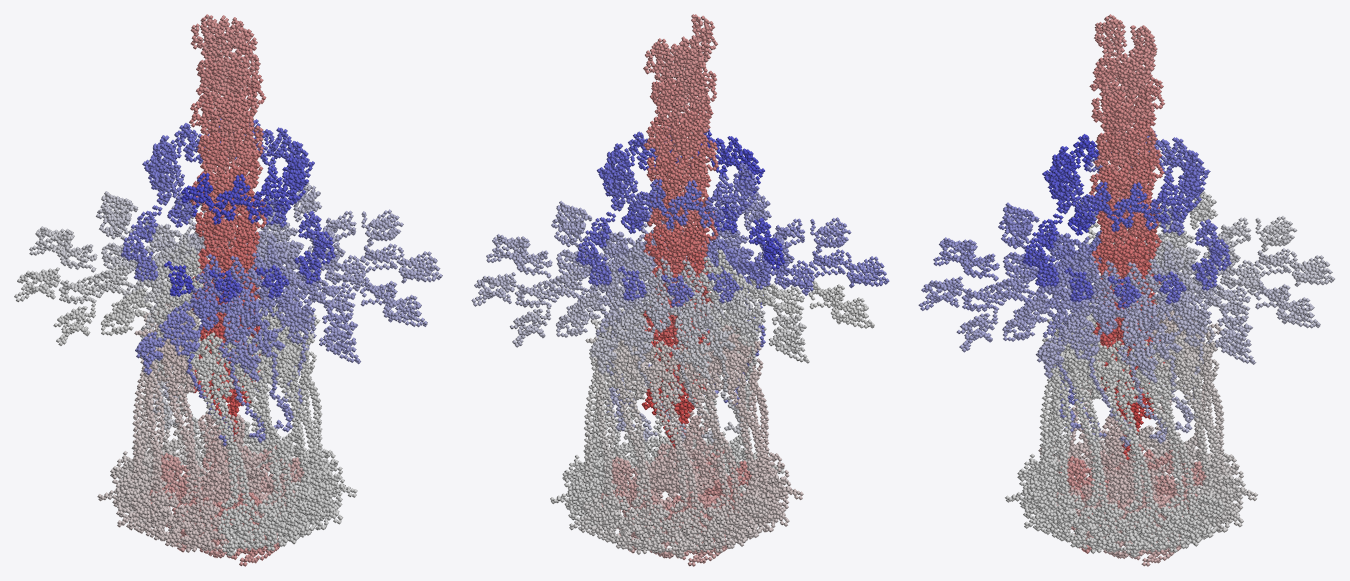
Rendered from pilus.glb.
The picture shows the model from 3 angles, left to right: view 1: azimuth 30°, elevation 25°; view 2: azimuth 150°, elevation 25°; view 3: azimuth 270°, elevation 25°; orthographic projection. The views are drawn at different scales.
Parts seen in each view (by area): view 1: vmd_mol2_rep0; view 2: vmd_mol2_rep0; view 3: vmd_mol2_rep0.
Part boxes in pixels (x1,y1,x2,y2): vmd_mol2_rep0: (14, 14, 442, 566); vmd_mol2_rep0: (471, 14, 889, 566); vmd_mol2_rep0: (918, 14, 1334, 566).
Size of the model in its own units: 1.59 by 2.22 by 1.59.
